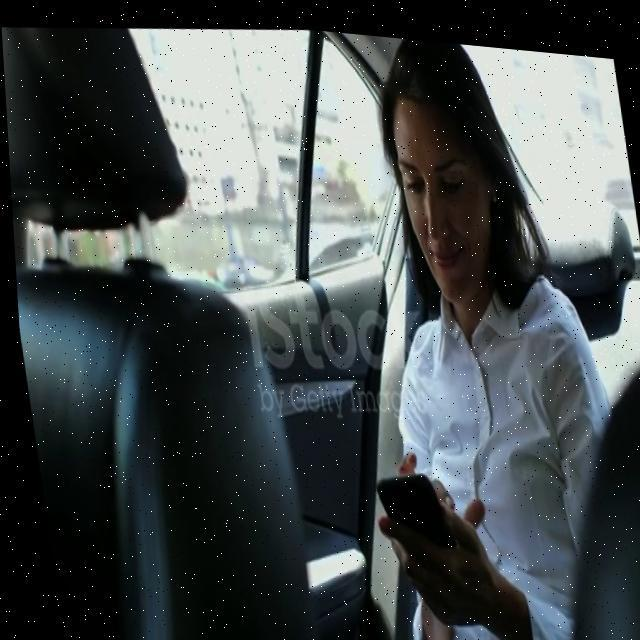PhoneCall: (368, 457, 458, 588)
